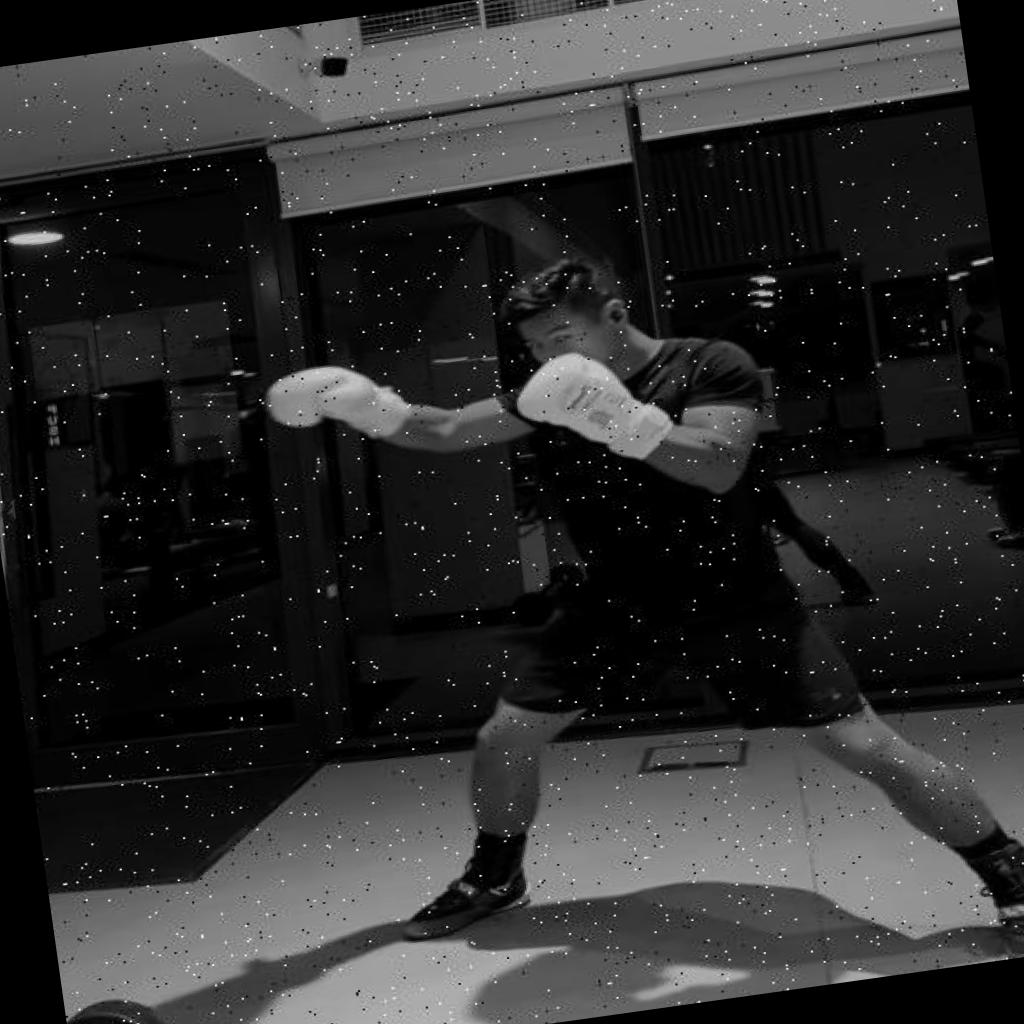jab: (239, 189, 1024, 1024)
